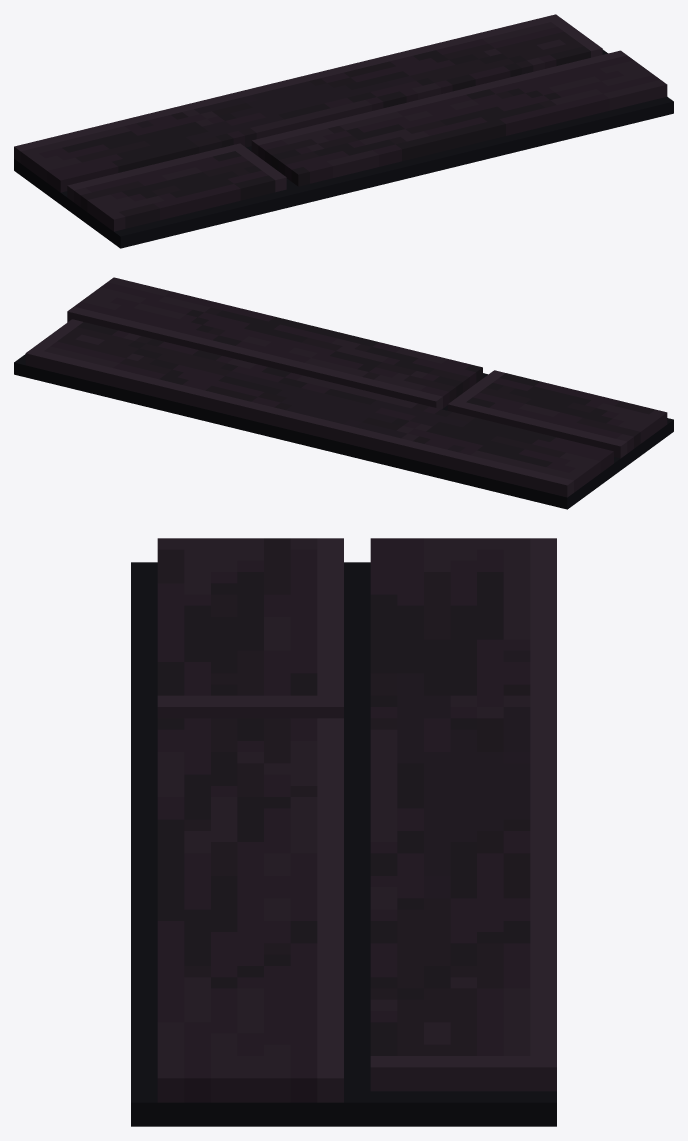
The model's file is Floor-5.obj.
3 renders of one model, top to bottom at view 1: azimuth 30°, elevation 25°; view 2: azimuth 150°, elevation 25°; view 3: azimuth 270°, elevation 25°, orthographic. The views are drawn at different scales.
Bounding box in the file's own units: 4.8 × 0.2 × 1.6.
1 material, 1 textured.
